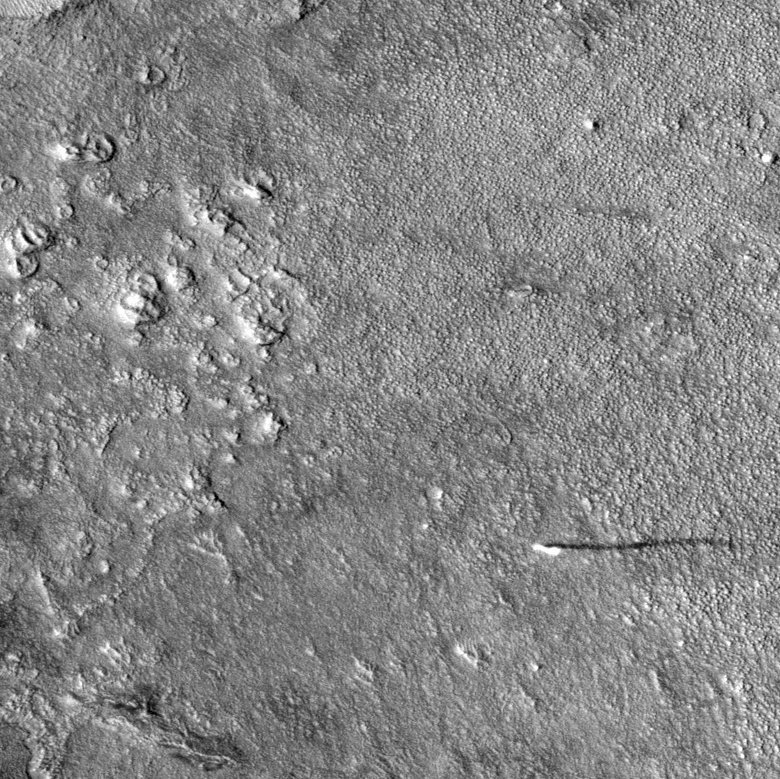dust_devil: (532, 535, 739, 557)
